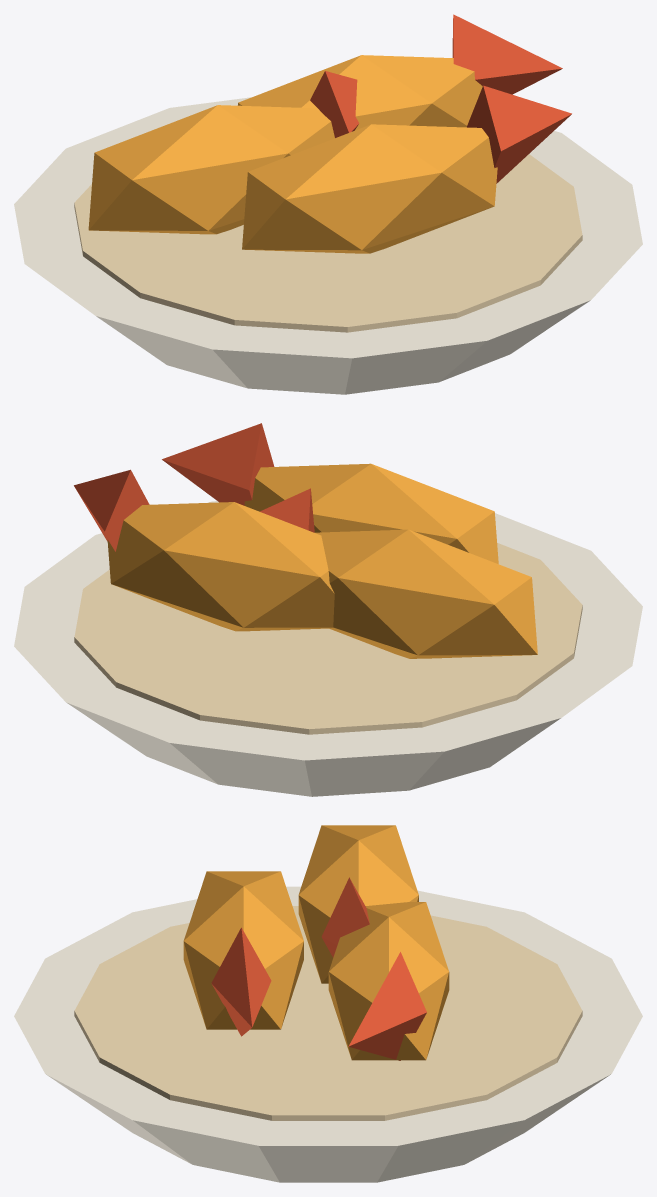
Rendered from party_treats.glb.
The picture shows the model from 3 angles, top to bottom: view 1: azimuth 30°, elevation 25°; view 2: azimuth 150°, elevation 25°; view 3: azimuth 270°, elevation 25°; orthographic projection.
Visible parts, largest first — view 1: party_treats; view 2: party_treats; view 3: party_treats.
Boxes of the visible parts, x1,y1,x2,y2 form: party_treats: [14, 14, 642, 394]; party_treats: [14, 423, 642, 796]; party_treats: [14, 825, 642, 1182].
Size of the model in its own units: 1.01 by 0.4 by 1.04.
